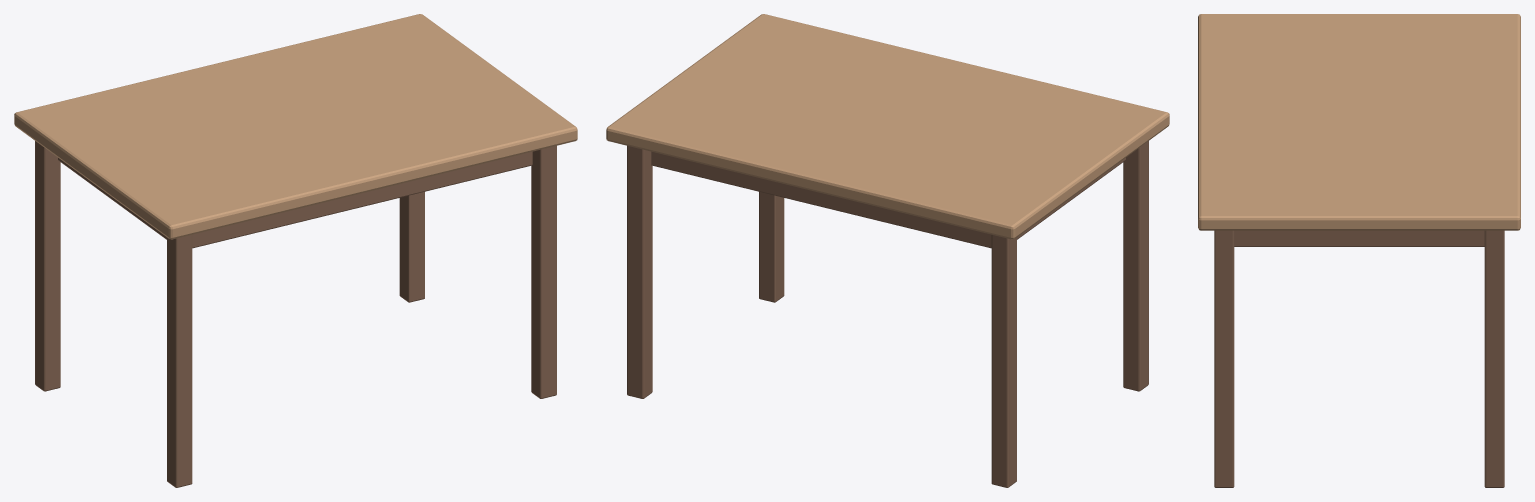
File: hh_kitchen_table.glb
3 renders of one model, left to right at view 1: azimuth 30°, elevation 25°; view 2: azimuth 150°, elevation 25°; view 3: azimuth 270°, elevation 25°, orthographic. The views are drawn at different scales.
Visible parts, largest first — view 1: top, leg, leg.002, leg.001, apron, leg.003; view 2: top, leg.001, leg.003, leg, apron, leg.002; view 3: top, leg.002, leg.003, apron.
Boxes of the visible parts, x1=… form: top: x1=14, y1=14, x2=577, y2=239; leg: x1=167, y1=235, x2=192, y2=487; leg.002: x1=531, y1=145, x2=556, y2=398; leg.001: x1=35, y1=141, x2=60, y2=391; apron: x1=58, y1=151, x2=532, y2=248; leg.003: x1=399, y1=191, x2=424, y2=302; top: x1=606, y1=14, x2=1169, y2=239; leg.001: x1=991, y1=235, x2=1016, y2=487; leg.003: x1=627, y1=145, x2=652, y2=398; leg: x1=1123, y1=141, x2=1148, y2=391; apron: x1=651, y1=151, x2=1125, y2=248; leg.002: x1=759, y1=191, x2=784, y2=302; top: x1=1198, y1=14, x2=1520, y2=230; leg.002: x1=1214, y1=230, x2=1234, y2=487; leg.003: x1=1484, y1=230, x2=1504, y2=487; apron: x1=1234, y1=230, x2=1484, y2=246.
Size of the model in its own units: 1.2 by 0.76 by 0.8.
